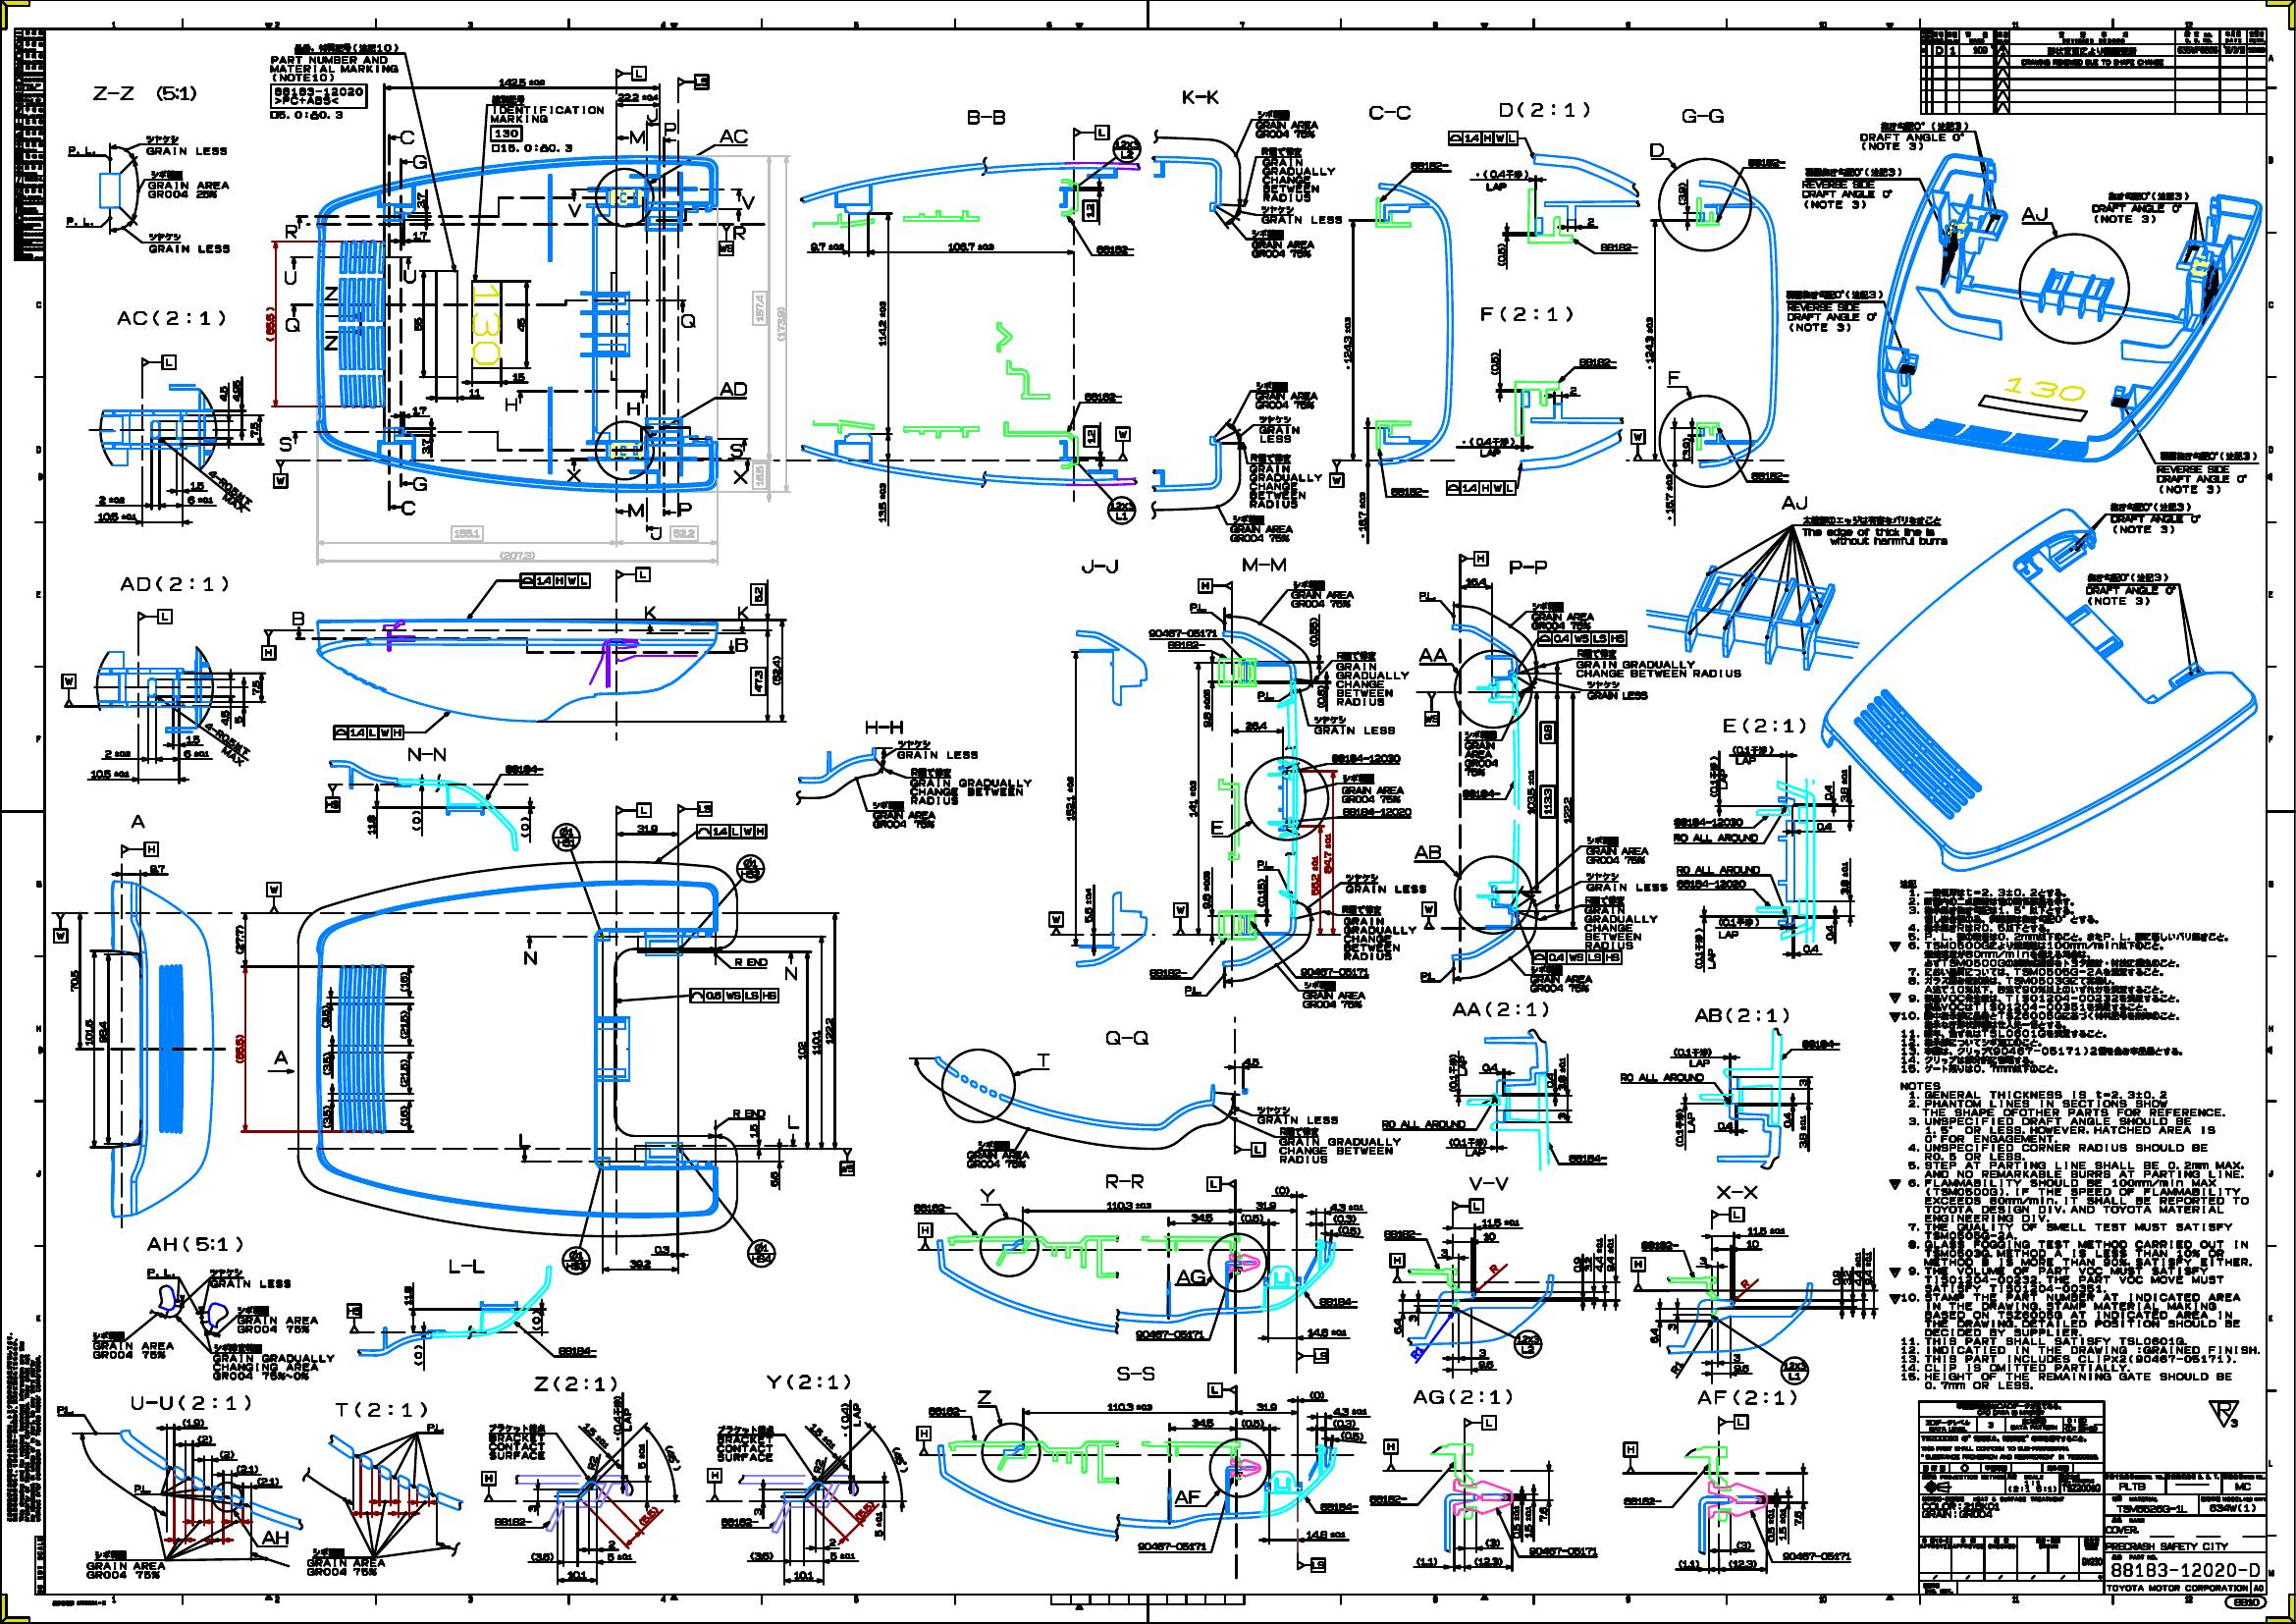anntotation_text: (1887, 1079, 2263, 1388), (1887, 877, 2231, 1074), (265, 42, 402, 121), (488, 93, 606, 155), (5, 1330, 40, 1520), (1576, 649, 1743, 678), (213, 1343, 336, 1383), (1260, 144, 1339, 206), (1801, 515, 1950, 547), (910, 766, 1031, 805), (1277, 1125, 1404, 1162), (1801, 165, 1903, 211), (2155, 450, 2259, 494), (1783, 288, 1883, 332), (1340, 903, 1418, 960), (1247, 453, 1323, 510), (1335, 650, 1409, 707), (1583, 895, 1658, 949), (1859, 120, 1969, 151), (2090, 190, 2189, 223), (2083, 571, 2177, 606), (2108, 501, 2201, 533), (148, 169, 230, 202), (306, 1545, 386, 1578), (128, 1392, 253, 1413), (84, 1550, 165, 1582), (235, 1304, 320, 1334), (487, 1422, 548, 1461), (717, 1424, 775, 1464), (93, 1330, 174, 1359), (91, 83, 197, 104), (116, 573, 228, 592), (871, 800, 938, 831), (1254, 109, 1319, 141), (1247, 228, 1316, 258), (1228, 513, 1296, 543), (206, 1267, 293, 1290), (114, 311, 227, 329), (1449, 1000, 1551, 1019), (142, 134, 228, 156), (1342, 772, 1404, 803), (1530, 601, 1595, 631), (1585, 835, 1648, 865), (966, 1139, 1029, 1169), (332, 1399, 429, 1418), (1254, 380, 1319, 408), (1289, 580, 1354, 608), (1697, 1388, 1799, 1406), (148, 232, 232, 253), (1303, 981, 1367, 1009), (1256, 1104, 1339, 1125), (896, 738, 978, 759), (1530, 965, 1592, 993), (1476, 304, 1574, 322), (1497, 102, 1592, 120), (1463, 729, 1498, 777), (1693, 1005, 1788, 1023), (1312, 715, 1398, 735), (1722, 714, 1806, 733), (1585, 872, 1669, 891), (1344, 874, 1428, 893), (1412, 1388, 1514, 1404), (144, 1236, 246, 1251), (1260, 206, 1342, 225), (532, 1374, 618, 1392), (764, 1371, 850, 1388), (1532, 949, 1623, 965), (1537, 631, 1627, 647), (690, 986, 778, 1002), (1585, 680, 1650, 701), (1258, 415, 1303, 445), (2205, 1396, 2242, 1432), (1460, 436, 1516, 459), (202, 482, 260, 503), (197, 733, 253, 754), (1476, 169, 1530, 190), (518, 573, 590, 589), (332, 724, 404, 740), (1448, 130, 1518, 146), (1446, 480, 1516, 496), (696, 823, 766, 838), (610, 1394, 632, 1441), (1671, 831, 1758, 844), (1620, 1070, 1706, 1083), (1692, 926, 1716, 968), (1716, 916, 1760, 939), (550, 821, 580, 852), (745, 1237, 776, 1267), (1780, 1353, 1809, 1385), (1107, 496, 1138, 526), (863, 717, 906, 738), (1448, 1135, 1488, 1158), (1672, 1046, 1713, 1069), (1674, 865, 1760, 875), (1674, 877, 1748, 889), (1381, 1118, 1467, 1128), (734, 852, 764, 882), (560, 1244, 590, 1274), (1513, 1329, 1542, 1359), (1112, 134, 1142, 163), (1732, 743, 1774, 765), (1527, 1545, 1599, 1557), (1240, 555, 1289, 573), (1330, 750, 1400, 763), (1708, 754, 1727, 796), (1674, 1107, 1695, 1146), (1681, 107, 1727, 125), (1367, 104, 1412, 121), (840, 1401, 863, 1436), (966, 107, 1007, 127), (1180, 88, 1221, 107), (1715, 1183, 1758, 1200), (1147, 627, 1219, 638), (1342, 807, 1414, 817), (1298, 967, 1370, 977), (1133, 1329, 1205, 1339), (1103, 1028, 1151, 1044), (121, 840, 160, 859), (1448, 1053, 1467, 1091), (1672, 816, 1743, 826), (1781, 1550, 1852, 1561), (1137, 1541, 1207, 1552), (446, 1258, 487, 1276), (1507, 559, 1549, 575), (404, 747, 446, 763), (1467, 1176, 1509, 1192), (1080, 557, 1121, 573), (1103, 1172, 1144, 1188), (1116, 1366, 1156, 1381), (137, 606, 172, 624), (1465, 1413, 1497, 1432), (717, 127, 748, 146), (1709, 1206, 1746, 1222), (1423, 691, 1439, 726), (1630, 1257, 1646, 1292), (1073, 123, 1108, 139), (615, 566, 650, 582), (35, 1534, 44, 1596), (53, 910, 69, 944), (265, 881, 281, 914), (717, 223, 733, 257), (1172, 902, 1188, 935), (617, 801, 650, 817), (1451, 1197, 1484, 1213), (1458, 548, 1488, 566), (838, 1146, 856, 1176), (1296, 1555, 1326, 1573), (1718, 1411, 1748, 1429), (260, 1527, 290, 1545), (1567, 1153, 1609, 1165), (1116, 425, 1130, 462), (1383, 1438, 1398, 1469), (615, 65, 646, 81), (1630, 429, 1646, 460), (1175, 1269, 1207, 1285), (1746, 156, 1787, 169), (1462, 786, 1502, 798), (1801, 1037, 1841, 1049), (1639, 1239, 1679, 1251), (1094, 244, 1135, 257), (1599, 241, 1639, 253), (1318, 1295, 1358, 1308), (557, 1345, 597, 1357), (51, 1598, 107, 1606), (141, 353, 176, 367), (678, 801, 713, 816), (1750, 469, 1788, 482), (928, 1404, 966, 1417), (1780, 494, 1809, 510), (1418, 647, 1448, 663), (1390, 1253, 1405, 1283), (678, 74, 708, 90), (1330, 457, 1346, 487), (260, 629, 276, 659), (346, 1302, 362, 1332), (915, 1425, 931, 1455), (1198, 578, 1231, 592), (706, 1468, 720, 1501), (718, 381, 747, 397), (2022, 206, 2050, 221), (1412, 844, 1440, 859), (61, 673, 76, 705), (1233, 1142, 1265, 1156), (1318, 1501, 1360, 1512), (1623, 1443, 1637, 1475), (272, 459, 288, 487), (323, 784, 339, 812), (1296, 1348, 1328, 1362), (1207, 1176, 1235, 1192), (912, 1202, 954, 1213), (481, 1469, 495, 1501), (1207, 1383, 1238, 1397), (1367, 1494, 1407, 1504), (1390, 487, 1430, 497), (1409, 160, 1449, 170), (1147, 967, 1188, 977), (720, 1517, 761, 1527), (65, 213, 95, 227), (1421, 902, 1437, 928), (1084, 390, 1123, 401), (504, 765, 543, 775), (494, 1517, 532, 1527), (917, 1222, 931, 1250), (1579, 357, 1616, 367), (733, 956, 768, 967), (731, 1107, 766, 1118), (1173, 1489, 1200, 1503), (65, 144, 95, 156), (146, 1265, 176, 1278), (1047, 910, 1063, 933), (1623, 1496, 1664, 1504), (680, 311, 697, 330), (515, 1128, 532, 1148), (782, 1113, 799, 1132), (1383, 1229, 1421, 1237), (1166, 640, 1205, 649), (731, 223, 748, 243), (738, 192, 755, 211), (566, 199, 583, 218), (399, 265, 416, 285), (411, 153, 429, 172), (321, 281, 339, 301), (281, 267, 299, 286), (283, 221, 300, 241), (641, 105, 661, 123), (641, 603, 659, 622), (522, 949, 539, 967), (283, 315, 300, 332), (627, 127, 645, 144), (736, 605, 754, 622), (733, 634, 750, 652), (782, 963, 798, 982), (321, 332, 337, 352), (662, 120, 678, 139), (1648, 141, 1665, 156), (271, 1049, 288, 1065), (413, 475, 429, 492), (627, 501, 645, 517), (676, 501, 694, 517), (399, 127, 415, 144), (1209, 817, 1224, 835), (128, 814, 148, 828), (278, 434, 292, 453), (132, 1482, 153, 1494), (1665, 369, 1681, 385), (566, 468, 581, 483), (733, 468, 748, 483), (1036, 1051, 1051, 1069), (401, 497, 415, 515), (978, 1387, 993, 1404), (504, 397, 518, 413), (648, 526, 664, 540), (729, 441, 743, 457), (980, 1188, 996, 1202), (1188, 601, 1207, 612), (425, 1422, 444, 1432), (290, 610, 304, 624), (627, 401, 639, 417), (1256, 689, 1274, 700), (56, 1404, 77, 1413), (1418, 591, 1437, 599), (1256, 859, 1275, 868), (1182, 984, 1202, 993), (1419, 972, 1437, 981)
dimension_text: (1342, 315, 1354, 373), (1643, 315, 1655, 371), (945, 241, 996, 253), (1356, 490, 1368, 541), (1525, 766, 1537, 816), (1539, 786, 1556, 817), (495, 76, 546, 86), (450, 526, 483, 541), (748, 666, 766, 696), (1664, 473, 1674, 522), (1309, 854, 1321, 896), (1200, 868, 1212, 910), (88, 766, 130, 779), (1065, 775, 1075, 823), (1107, 1200, 1154, 1211), (1186, 779, 1198, 819), (752, 290, 766, 325), (1107, 1401, 1152, 1411), (1202, 685, 1212, 731), (98, 510, 137, 522), (1082, 886, 1094, 924), (752, 462, 769, 489), (1593, 1237, 1606, 1274), (617, 91, 659, 102), (877, 482, 887, 524), (1560, 793, 1574, 824), (1323, 831, 1333, 874), (775, 306, 787, 341), (1307, 1327, 1347, 1338), (671, 526, 697, 541), (1556, 1058, 1569, 1091), (1746, 1225, 1785, 1236), (1481, 1216, 1520, 1227), (878, 301, 887, 346), (1082, 199, 1100, 221), (1539, 721, 1556, 743), (1472, 1555, 1504, 1568), (1839, 859, 1850, 896), (234, 923, 246, 954), (264, 306, 274, 341), (1082, 425, 1100, 446), (1864, 1250, 1874, 1285), (817, 1418, 827, 1454), (1305, 1529, 1346, 1538), (1606, 1237, 1616, 1271), (1523, 1504, 1534, 1538), (1839, 768, 1850, 801), (1307, 615, 1318, 649), (771, 654, 782, 687), (234, 1032, 244, 1065), (1495, 241, 1507, 269), (83, 1018, 95, 1046), (1256, 877, 1267, 909), (750, 584, 766, 605), (499, 550, 536, 559), (1332, 1406, 1368, 1415), (181, 749, 211, 759), (810, 241, 845, 250), (1767, 1508, 1776, 1543), (98, 496, 126, 506), (894, 1445, 905, 1473), (399, 1058, 409, 1086), (824, 1016, 834, 1044), (1799, 1114, 1808, 1148), (1853, 1251, 1862, 1285), (1778, 1508, 1787, 1541), (1513, 1504, 1521, 1538), (1330, 1202, 1363, 1211), (590, 1418, 599, 1452), (1340, 1429, 1363, 1441), (852, 1504, 875, 1517), (409, 808, 422, 831), (1488, 350, 1498, 376), (399, 1009, 408, 1040), (1332, 1213, 1358, 1223), (829, 1550, 856, 1561), (748, 1550, 775, 1561), (1727, 1559, 1757, 1568), (1254, 1401, 1279, 1411), (1189, 1417, 1214, 1427), (1465, 575, 1486, 587), (1242, 721, 1267, 731), (1314, 684, 1325, 708), (520, 814, 531, 838), (634, 823, 659, 833), (69, 968, 79, 993), (320, 1004, 330, 1028), (399, 970, 409, 995), (629, 1258, 653, 1269), (1189, 1213, 1214, 1223), (186, 496, 214, 504), (669, 1443, 678, 1471), (1414, 1555, 1437, 1566), (1681, 436, 1692, 459), (1337, 1225, 1360, 1236), (413, 1343, 423, 1366), (181, 1417, 204, 1427), (1815, 819, 1834, 831), (104, 749, 130, 758), (321, 1104, 330, 1130), (812, 1030, 820, 1056), (1238, 1213, 1265, 1222), (875, 1510, 884, 1536), (606, 1552, 632, 1561), (638, 1443, 646, 1469), (365, 814, 376, 835), (792, 1570, 813, 1580), (531, 1309, 541, 1330), (232, 380, 241, 404), (1332, 1418, 1356, 1427), (1240, 1418, 1265, 1427), (1678, 181, 1686, 206), (184, 733, 202, 745), (97, 1019, 105, 1044), (321, 1051, 330, 1076), (529, 1552, 553, 1561), (636, 1512, 661, 1520), (255, 1476, 279, 1485), (1830, 1267, 1841, 1287), (249, 677, 260, 696), (769, 1169, 780, 1188), (796, 1040, 806, 1060), (1678, 1559, 1700, 1568), (399, 1104, 408, 1127), (235, 1464, 258, 1473), (1716, 1120, 1732, 1132), (218, 383, 228, 401), (248, 422, 258, 439), (186, 482, 204, 492), (411, 404, 429, 415), (1391, 1316, 1402, 1334), (1407, 1348, 1425, 1359), (1648, 1327, 1658, 1345), (1667, 1364, 1685, 1374), (1732, 1364, 1750, 1374), (813, 1457, 824, 1475), (1823, 923, 1834, 940), (220, 708, 230, 726), (148, 863, 165, 874), (653, 1244, 671, 1255), (566, 1570, 587, 1578), (402, 1285, 411, 1306), (1572, 1255, 1581, 1274), (1256, 1200, 1275, 1209), (1544, 1072, 1555, 1088), (1744, 1239, 1760, 1250), (1736, 1540, 1751, 1550), (1484, 1536, 1500, 1547), (1244, 1056, 1260, 1067), (197, 1434, 213, 1445), (516, 315, 525, 332), (416, 192, 425, 209), (1477, 1360, 1495, 1369), (1481, 1062, 1498, 1070), (1783, 1111, 1792, 1128), (1843, 1269, 1852, 1287), (1539, 1504, 1548, 1522), (1801, 944, 1818, 953), (587, 1454, 596, 1471), (1556, 1111, 1569, 1123), (413, 230, 427, 241), (220, 1448, 234, 1459), (422, 438, 430, 453), (413, 316, 422, 332), (1794, 1510, 1802, 1526), (1309, 1390, 1325, 1399), (1823, 784, 1832, 800), (1274, 1185, 1289, 1193), (1481, 1232, 1497, 1241), (827, 1536, 838, 1548), (1585, 1257, 1592, 1274), (748, 1123, 757, 1137), (469, 387, 480, 397), (1439, 1246, 1449, 1257), (1407, 1313, 1418, 1323), (1477, 1346, 1488, 1357), (513, 373, 527, 380), (1490, 1264, 1498, 1274), (1797, 1077, 1808, 1086), (1665, 1322, 1676, 1330), (232, 715, 242, 724), (754, 1506, 762, 1517), (525, 1503, 536, 1512), (1699, 1257, 1708, 1265), (1732, 1352, 1741, 1360), (1586, 214, 1593, 225), (1569, 383, 1576, 394), (608, 1538, 615, 1548)
object: (293, 858, 740, 1237), (1820, 506, 2261, 874), (311, 149, 720, 496), (798, 134, 1138, 511), (1874, 151, 2266, 460), (311, 617, 722, 726), (936, 1232, 1337, 1334), (1513, 153, 1641, 468), (938, 1438, 1339, 1538), (1214, 612, 1314, 982), (111, 877, 218, 1216), (1449, 599, 1542, 986), (1151, 130, 1242, 513), (912, 1053, 1238, 1153), (1073, 626, 1149, 968), (1695, 179, 1780, 469), (1641, 564, 1859, 673), (1372, 179, 1455, 466), (116, 1427, 304, 1533), (327, 758, 522, 856), (357, 1265, 555, 1360), (1404, 1265, 1556, 1352), (1465, 1026, 1555, 1169), (1699, 1025, 1783, 1169), (1665, 1272, 1815, 1353), (1755, 777, 1820, 947), (93, 647, 214, 735), (327, 1434, 464, 1512), (102, 383, 218, 468), (1430, 1443, 1514, 1555), (1685, 1443, 1769, 1554), (513, 1471, 632, 1533), (738, 1473, 857, 1534), (799, 743, 884, 801), (148, 1278, 230, 1336), (97, 142, 141, 236)
title_block: (1918, 1401, 2266, 1594), (1918, 26, 2268, 114), (12, 28, 46, 262)
